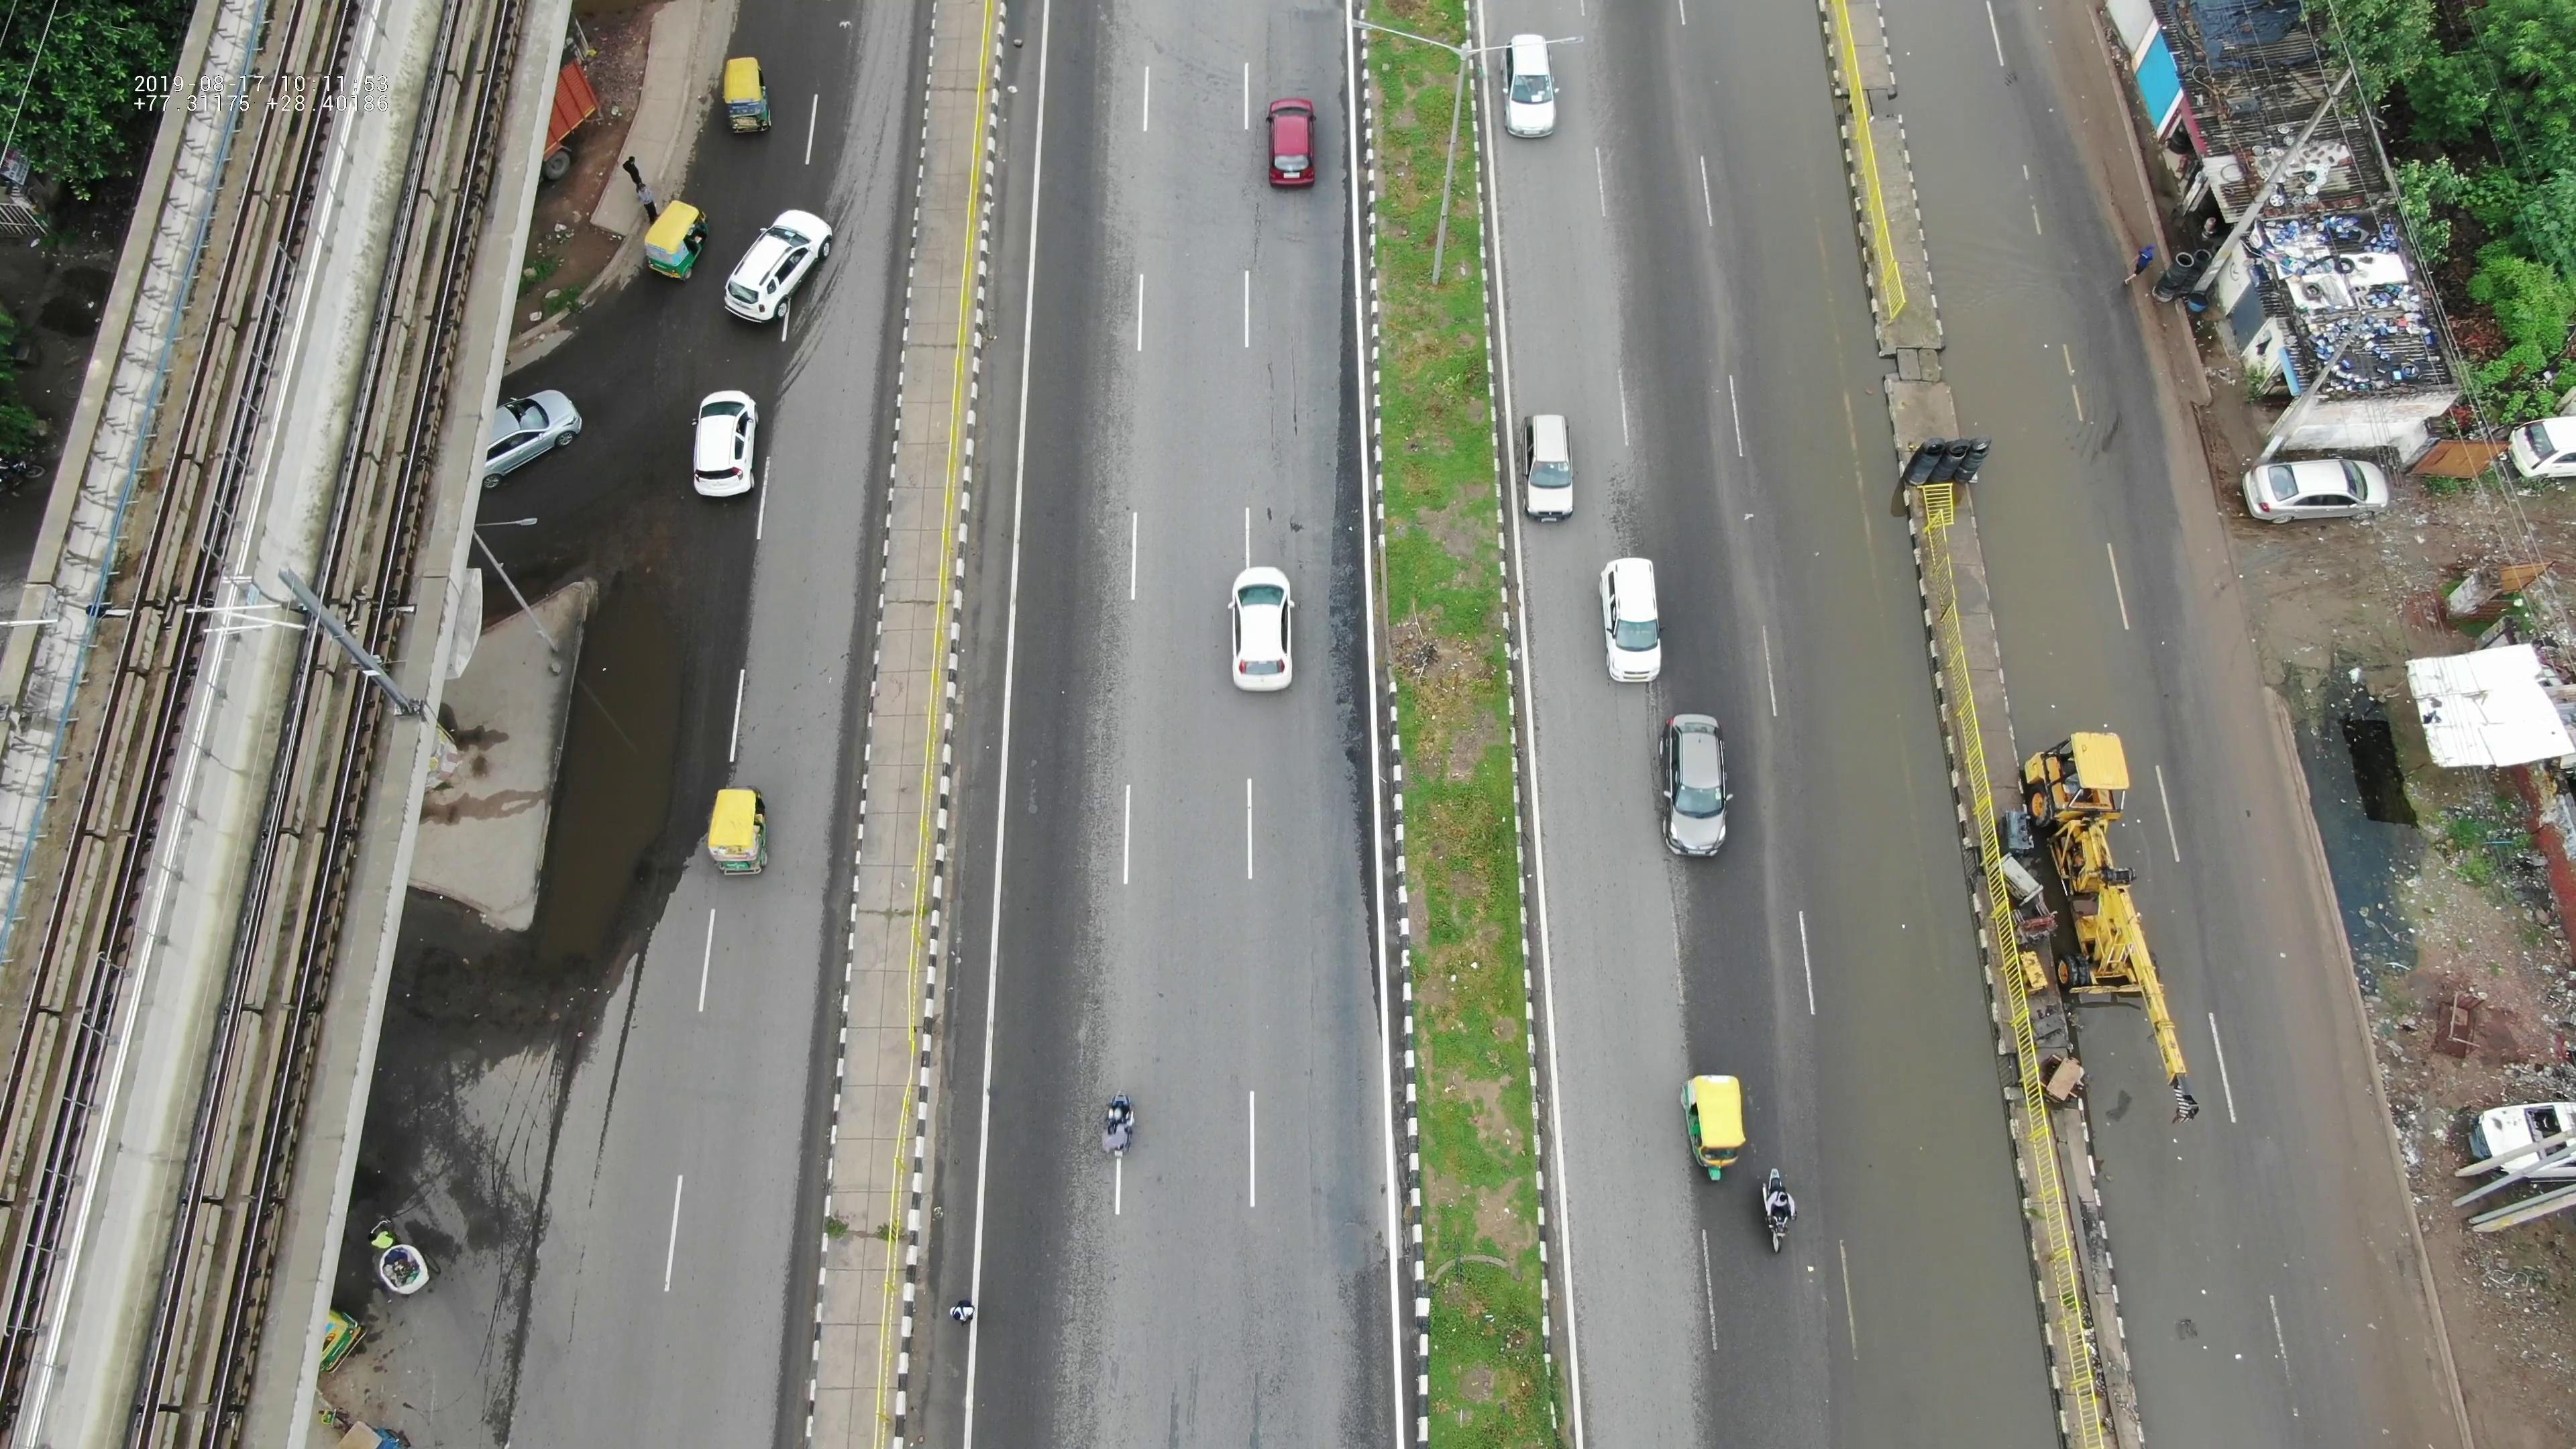Waterlogging: (1916, 186, 2128, 685), (1709, 161, 1927, 589), (1796, 697, 1997, 1127)
